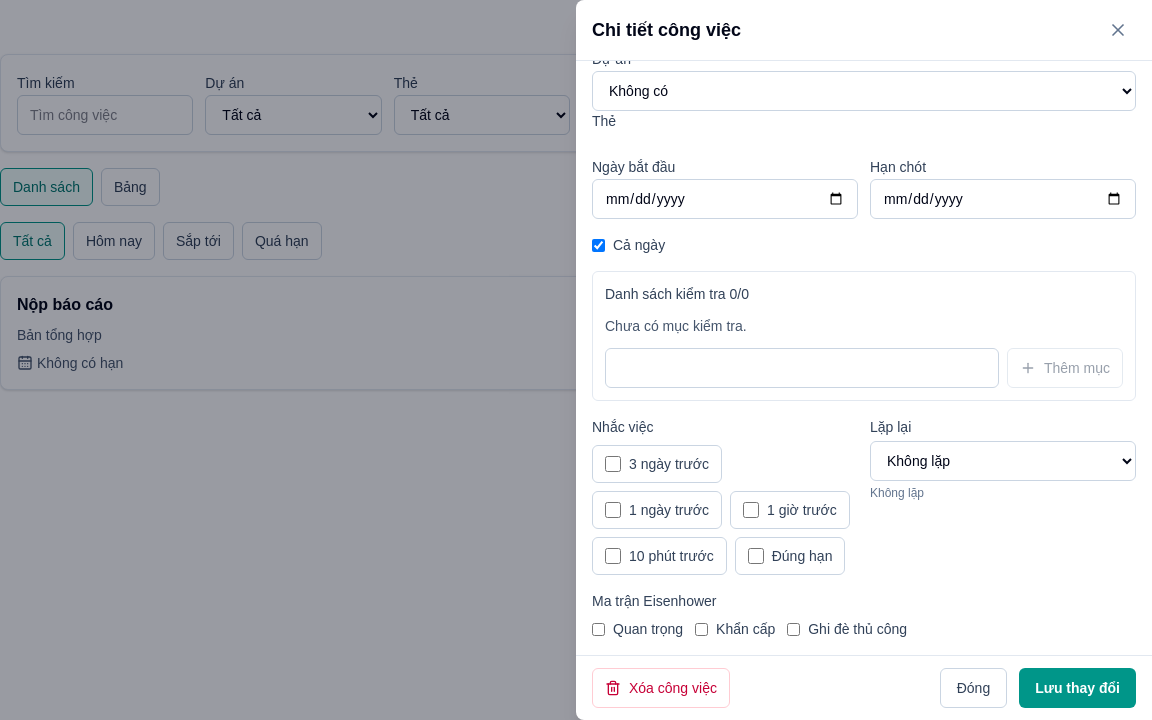
Test: TasksWorkspace › keeps a failed task save visible and skips Eisenhower changes
(page scrolled)
Click the checkbox labelled "Quan trọng" at (598, 629), box x1=592 y1=622 x2=605 y2=636
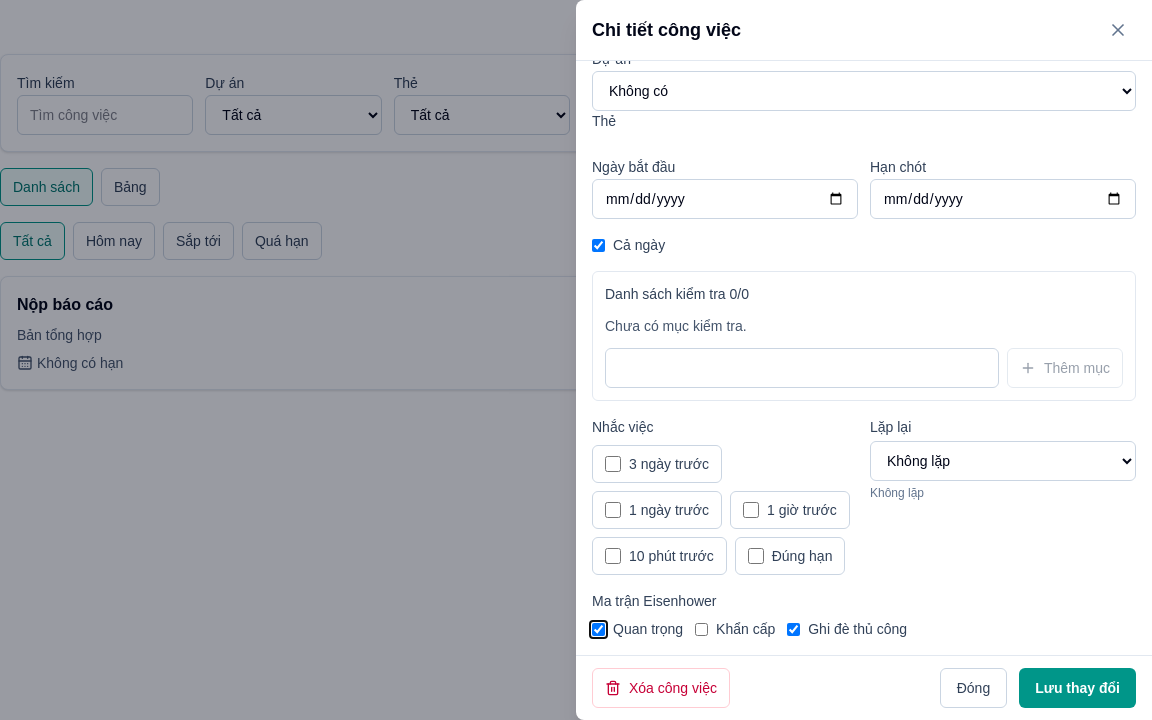
Click the button "Lưu thay đổi" at (1078, 688), box x1=1019 y1=668 x2=1136 y2=708
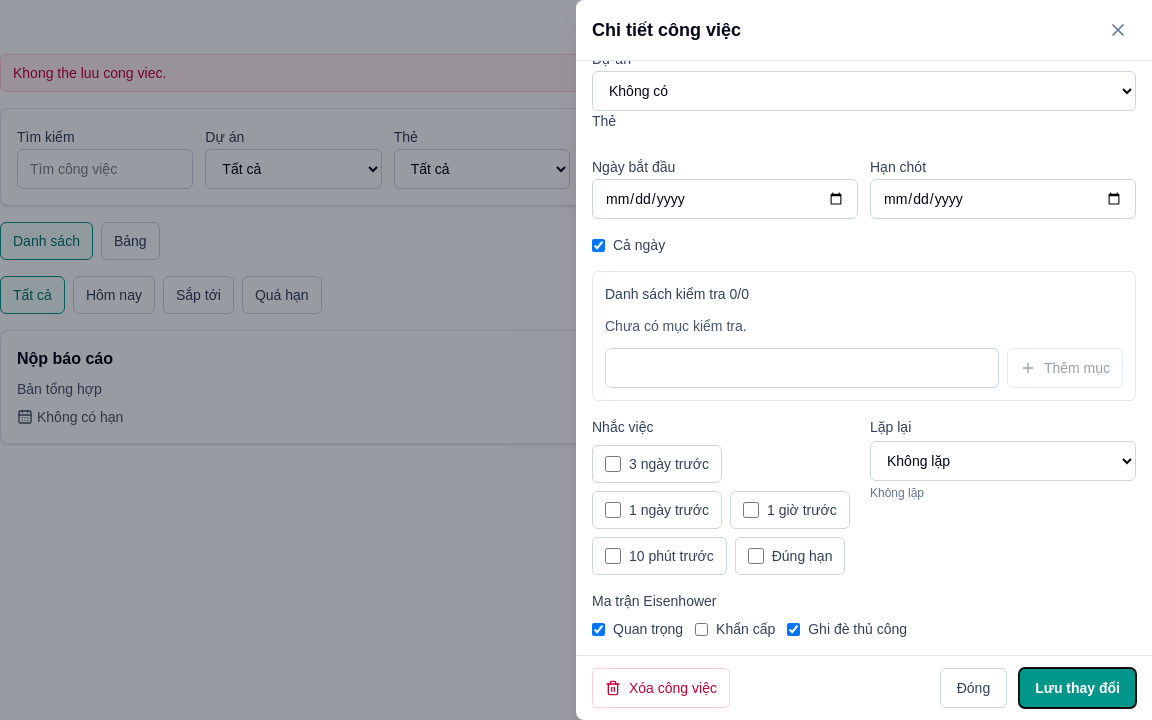
Expected: the message reads "Khong the luu cong viec.", x1=13 y1=65 x2=166 y2=81
